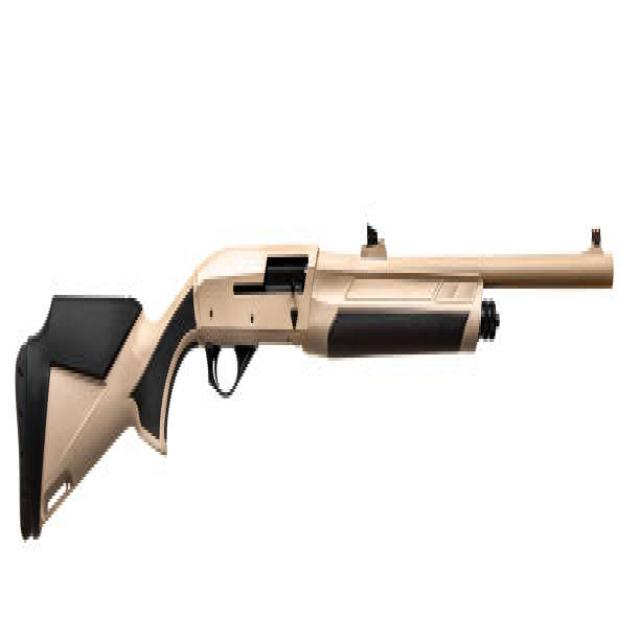rifle: (14, 217, 621, 552)
